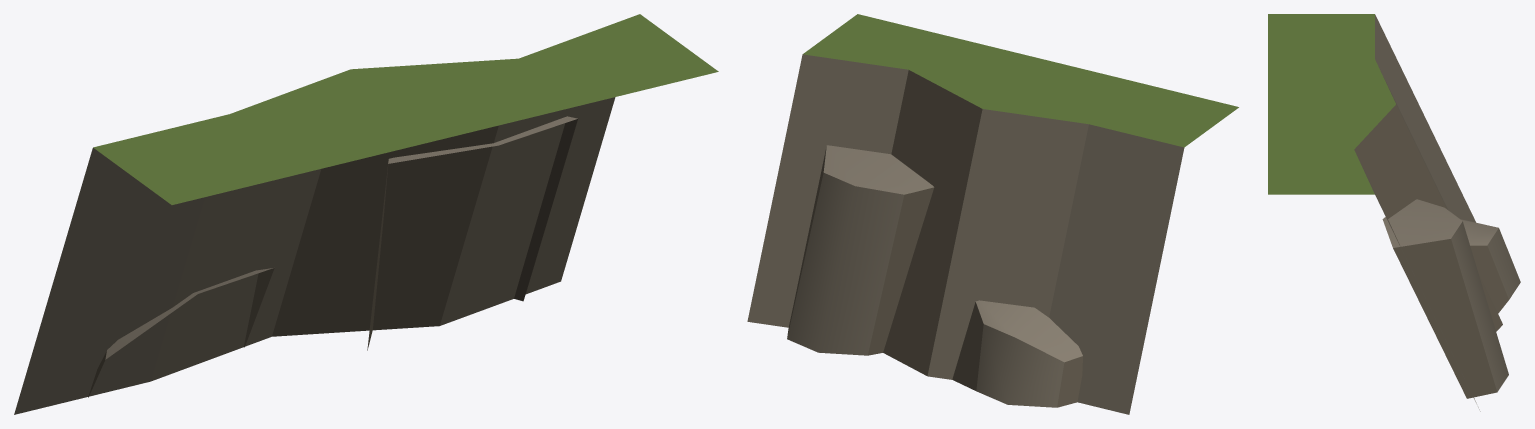
The model's file is SF_Env_CliffEdge_Straight_01.fbx.
The picture shows the model from 3 angles, left to right: view 1: azimuth 30°, elevation 25°; view 2: azimuth 150°, elevation 25°; view 3: azimuth 270°, elevation 25°; orthographic projection. The views are drawn at different scales.
Visible parts, largest first — view 1: SF_Env_CliffEdge_Straight_01; view 2: SF_Env_CliffEdge_Straight_01; view 3: SF_Env_CliffEdge_Straight_01.
Part boxes in pixels (x1=…): SF_Env_CliffEdge_Straight_01: x1=14, y1=14, x2=718, y2=414; SF_Env_CliffEdge_Straight_01: x1=747, y1=14, x2=1238, y2=414; SF_Env_CliffEdge_Straight_01: x1=1268, y1=14, x2=1520, y2=411.
Bounding box in the file's own units: 10 × 5.68 × 5.91.
